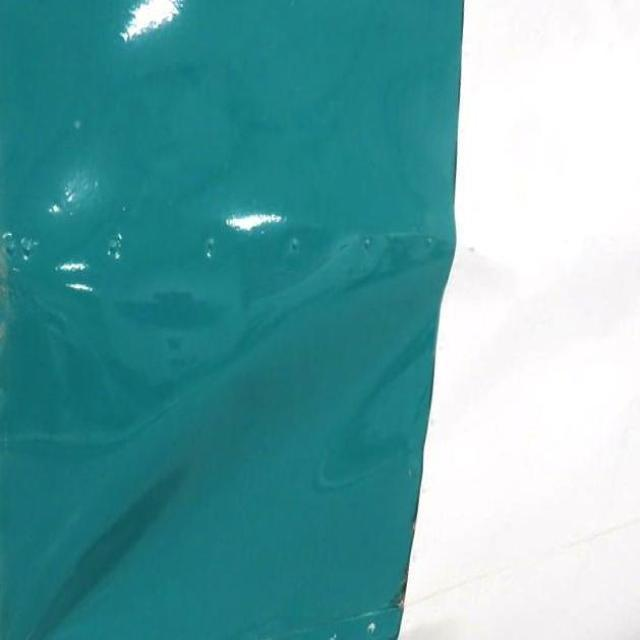Dent: (18, 443, 219, 639)
